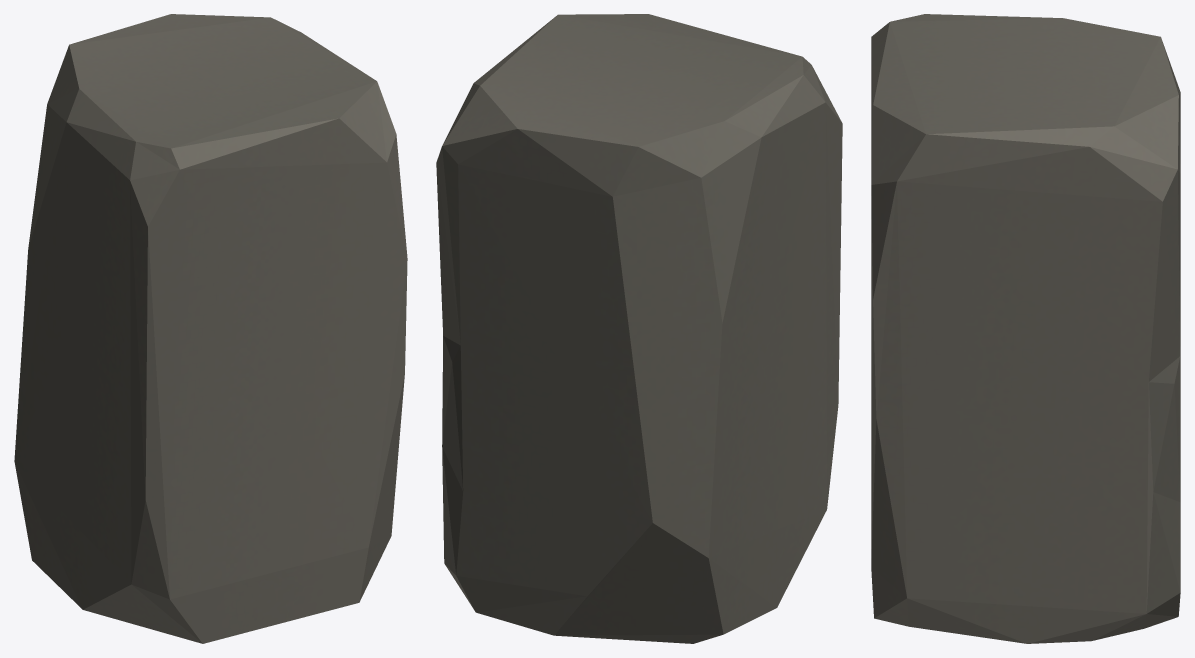
Rendered from Rock_Block_3.fbx.
The picture shows the model from 3 angles, left to right: view 1: azimuth 30°, elevation 25°; view 2: azimuth 150°, elevation 25°; view 3: azimuth 270°, elevation 25°; orthographic projection. The views are drawn at different scales.
Parts seen in each view (by area): view 1: Group24638; view 2: Group24638; view 3: Group24638.
Part boxes in pixels (<box>): Group24638: <box>14,14,407,643</box>; Group24638: <box>436,14,842,643</box>; Group24638: <box>871,14,1180,643</box>.
Bounding box in the file's own units: 110 × 200 × 110.
1 material, 1 textured.
